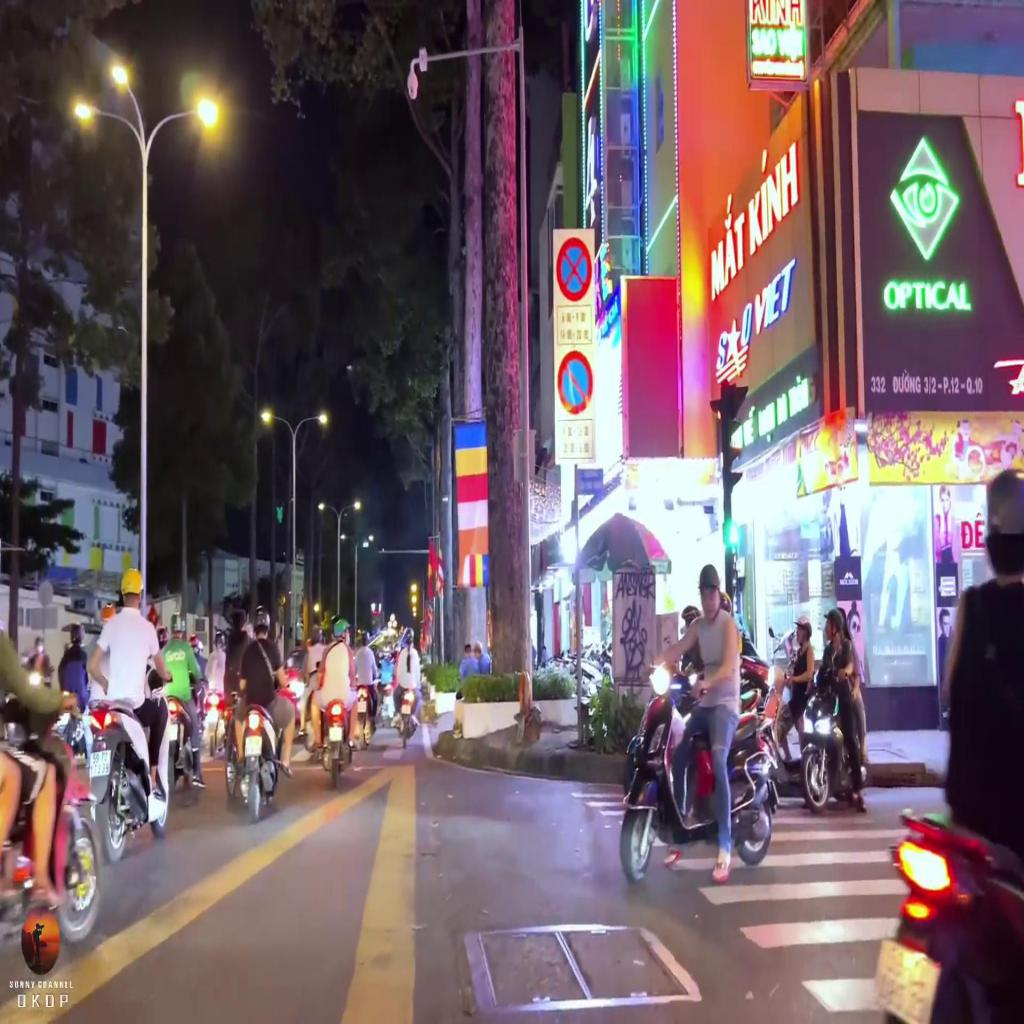cam_do_xe: (558, 349, 592, 414)
cam_dung_xe_va_do_xe: (556, 238, 592, 301)
